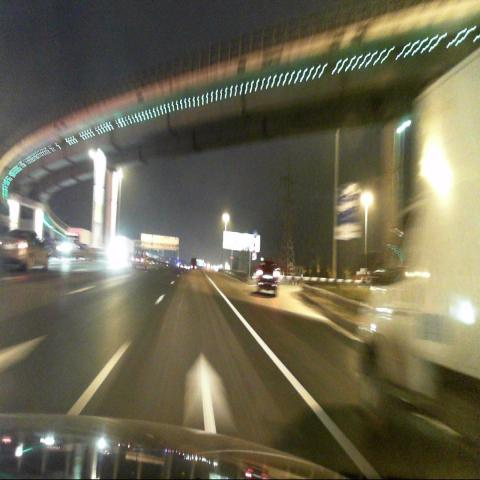5_3: (337, 184, 354, 224)
